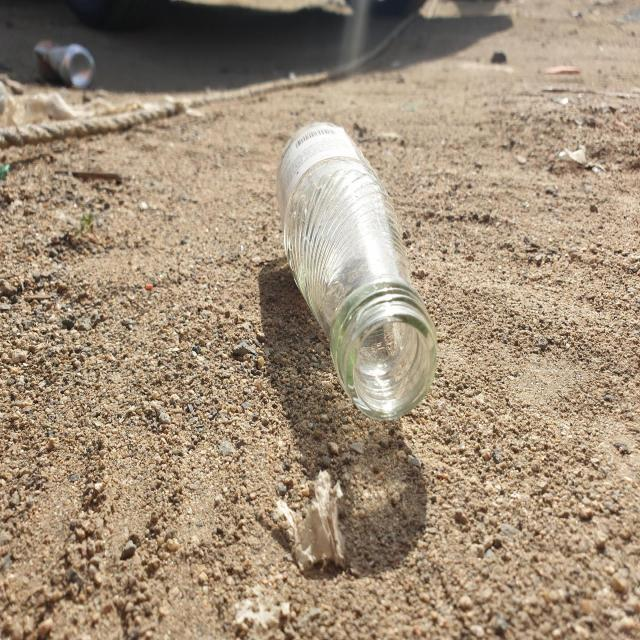glass: (277, 123, 437, 420)
